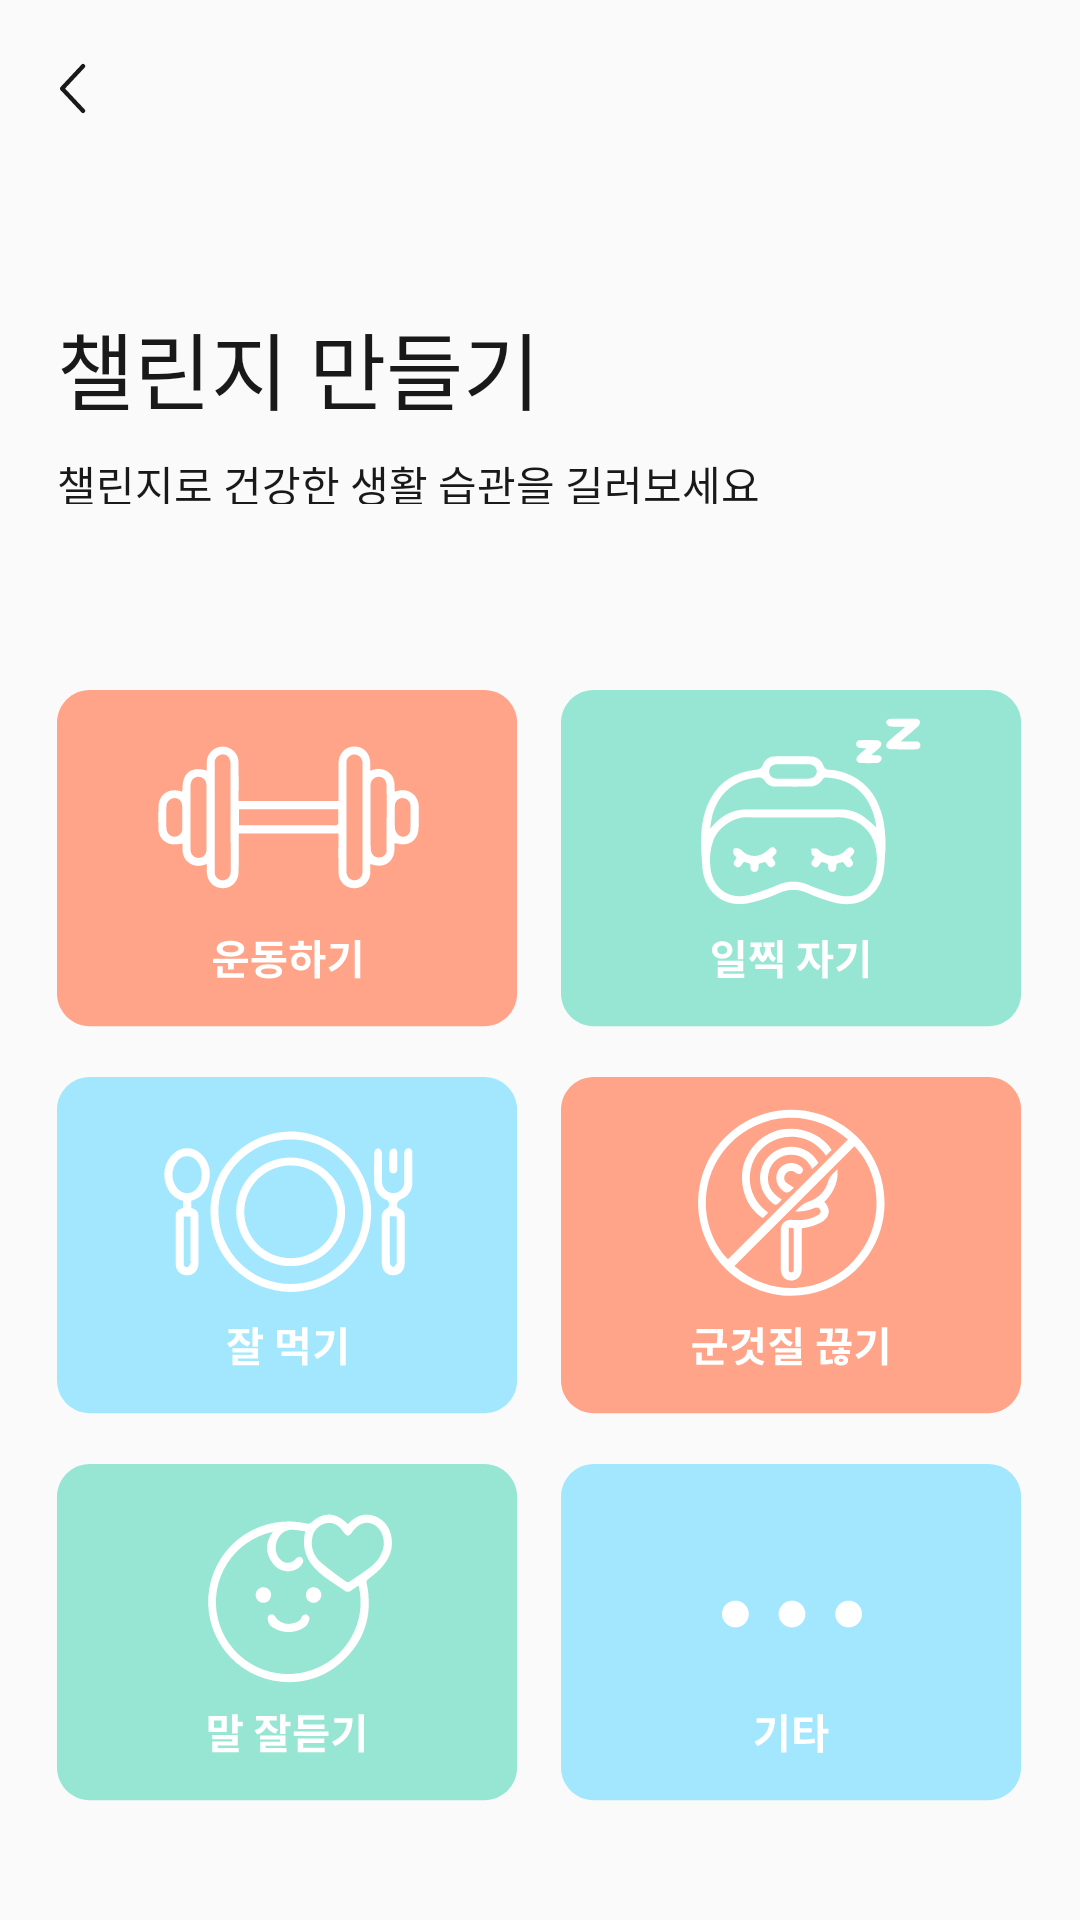

Screen size 1080*1920. Icon name, then its center in pixels as (x=x, y=y):
back: (x=73, y=88)
